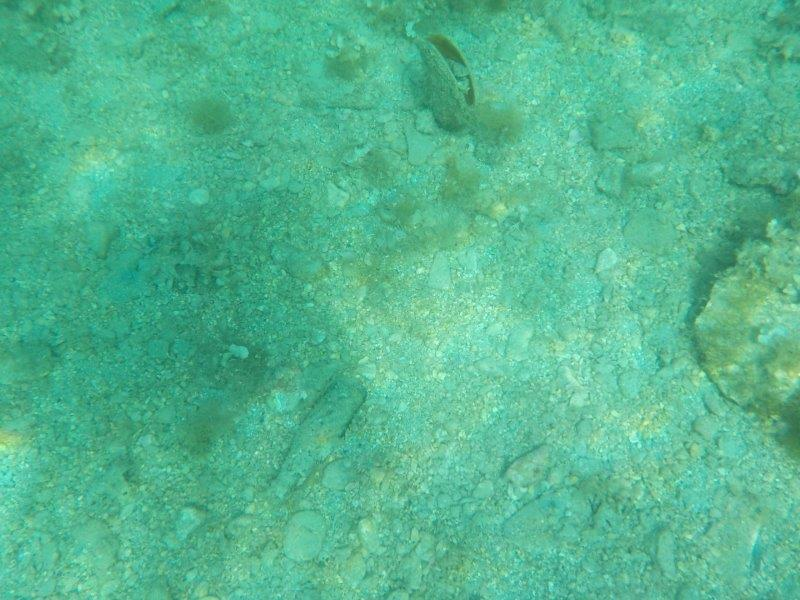bottle: (267, 371, 370, 502)
